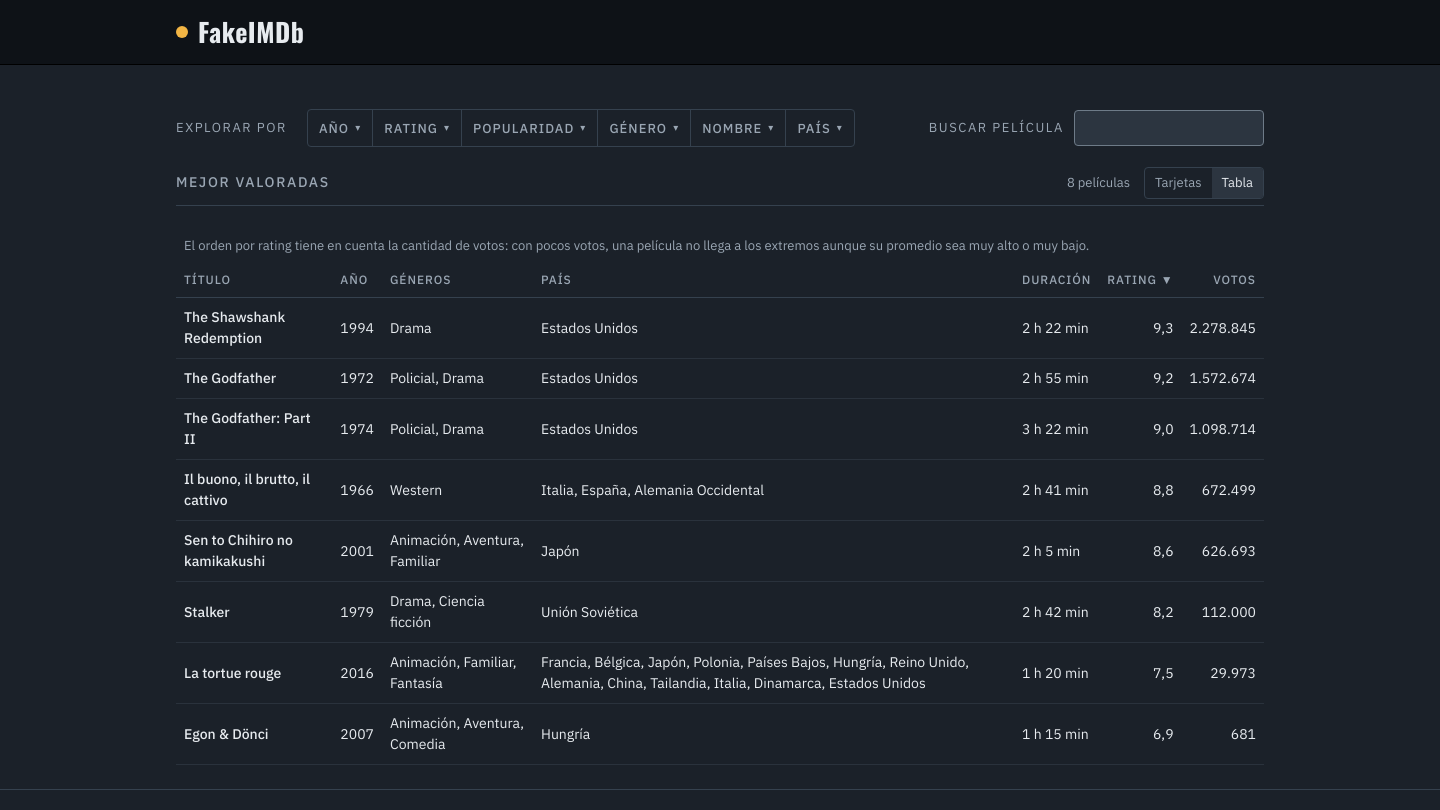
Scenario: table view › says that the order by rating weighs the votes, since the column shows the plain average
The width and height of the screenshot is (1440, 810).
Click the button "Votos": (1235, 280) [1213,271,1256,289]
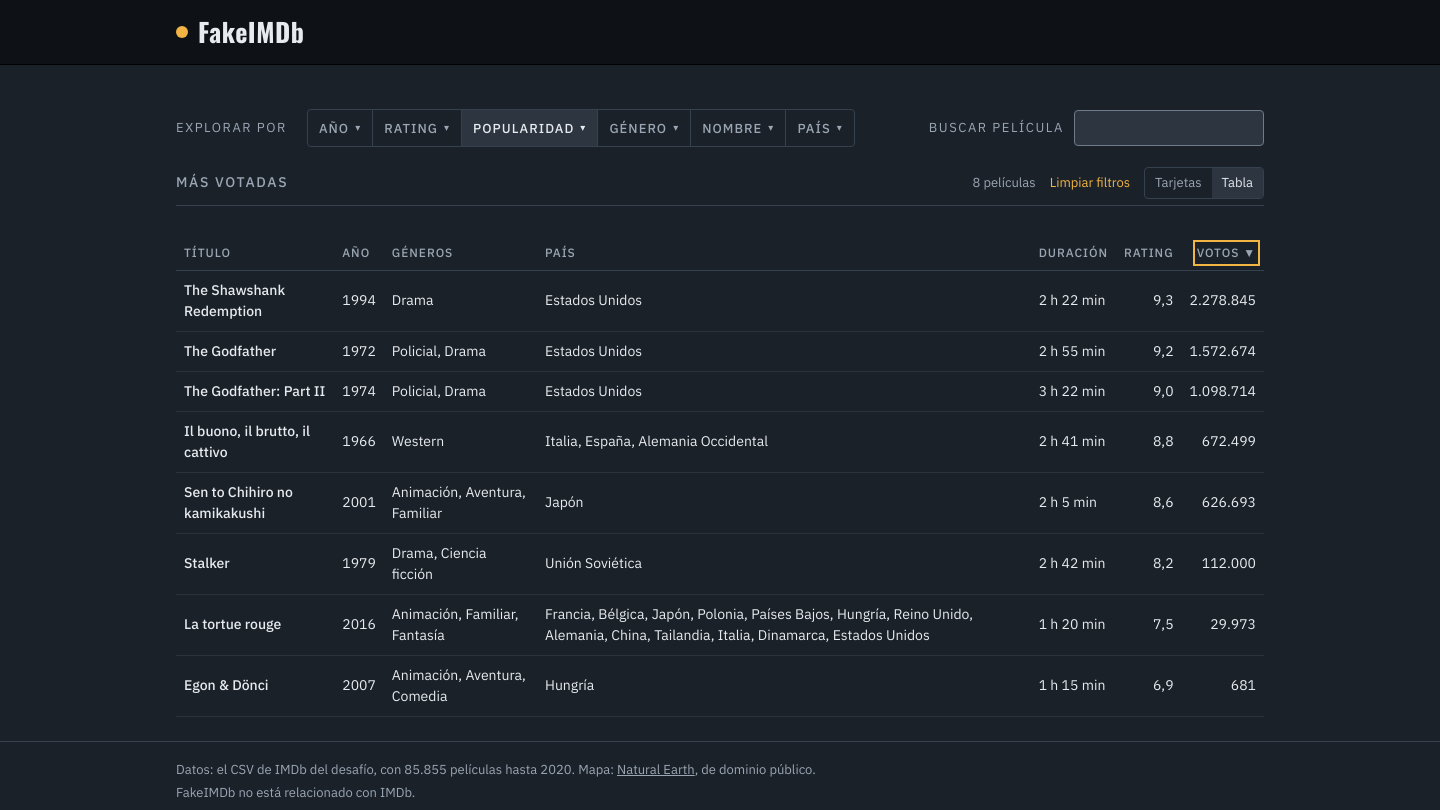
Check: the text "El orden por rating tiene en cuenta la cantidad de votos" is gone
Click the button "Rating": (1149, 252) [1124,244,1174,262]
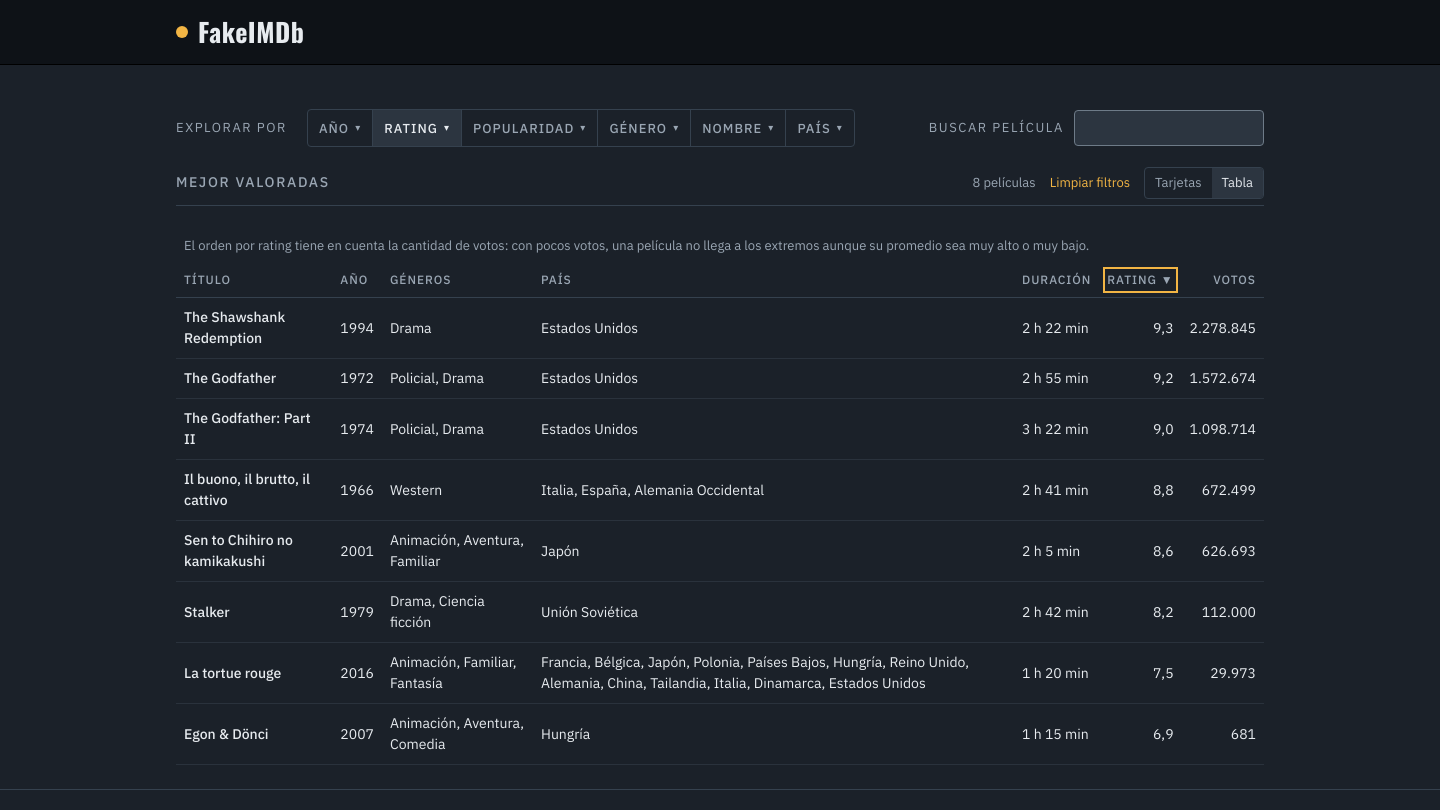
Check: the text "El orden por rating tiene en cuenta la cantidad de votos" is shown, box [184,236,1089,254]
